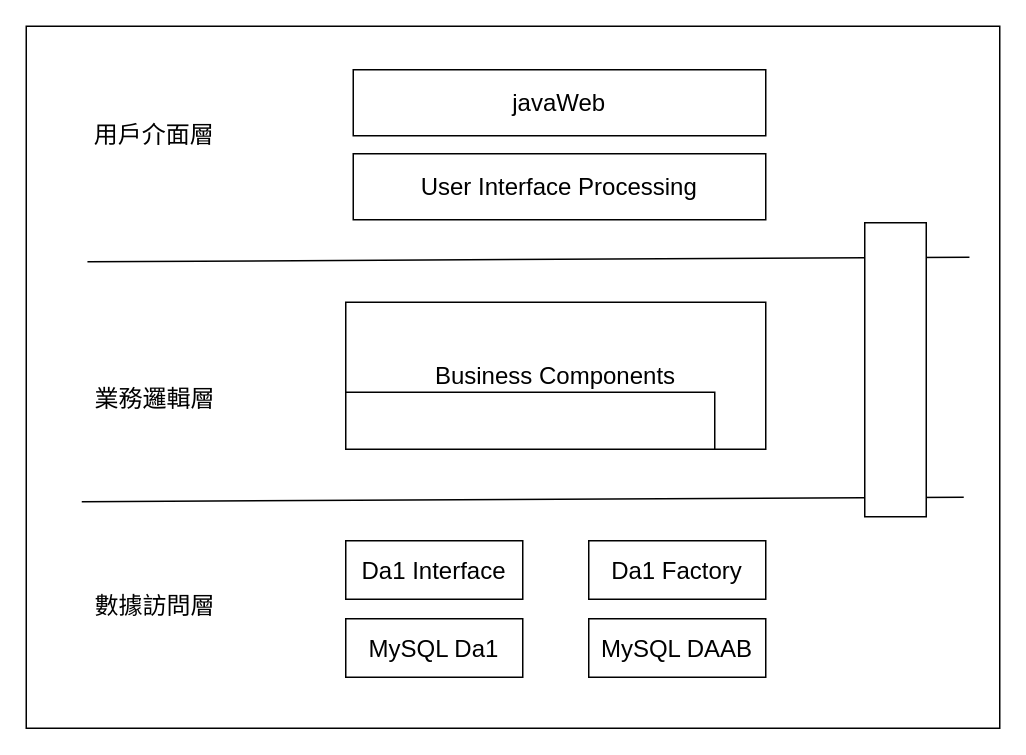
Image size: 1026x755. Some labels were removed from this diagram. Here are the shapes that lost their labels. From the top down, the centre of each, then its label:
At point (894, 369): "Bisiness Entities".
At point (529, 420): "Enterprise Services".
